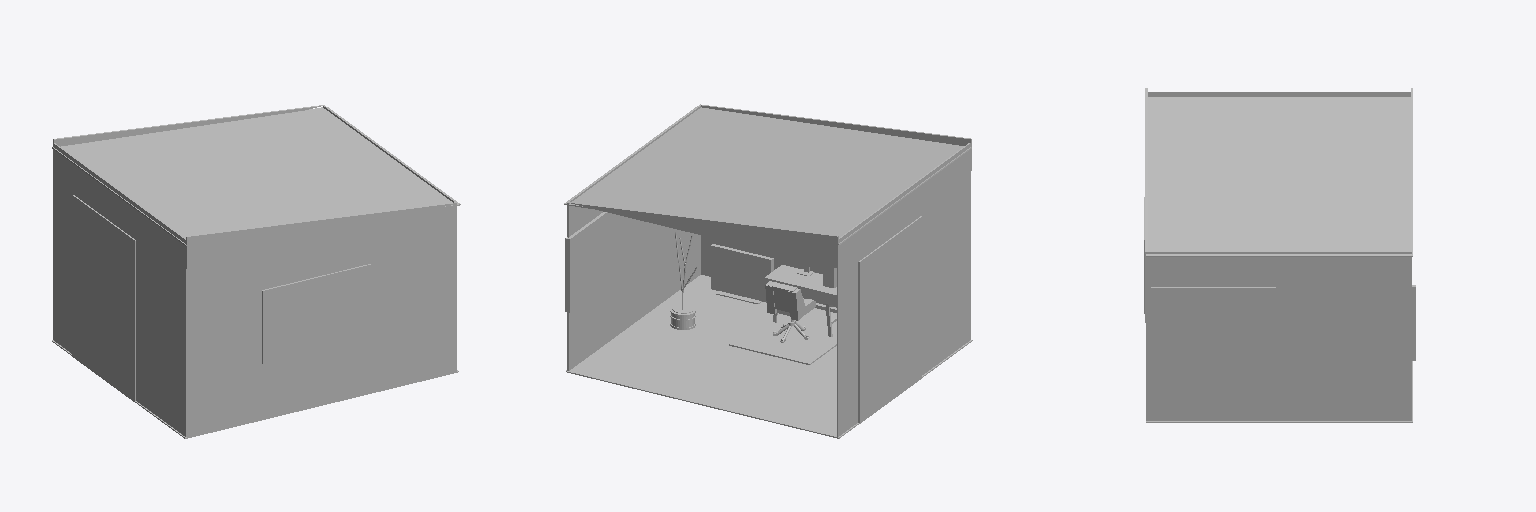
The model's file is room.obj.
3 renders of one model, left to right at view 1: azimuth 30°, elevation 25°; view 2: azimuth 150°, elevation 25°; view 3: azimuth 270°, elevation 25°, orthographic.
Visible parts, largest first — view 1: Cube.004, Cube.005, Cube.070, Cube.069, Cube.035, Cube.006, Cube.007; view 2: Cube.005, Cube.001, Cube.070, Cube.069, Cube.002, Cube.068, Cube.007, Cube.036, Cube.032, Cube.006, Cube.009, Cube.004 (+1 smaller); view 3: Cube.005, Cube.002, Cube.067, Cube.068, Cube.070, Cube.001.
Part boxes in pixels (bbox=[...]): Cube.004: bbox=[187, 203, 456, 437]; Cube.005: bbox=[52, 107, 460, 245]; Cube.070: bbox=[53, 143, 186, 436]; Cube.069: bbox=[72, 195, 135, 401]; Cube.035: bbox=[262, 264, 371, 363]; Cube.006: bbox=[186, 202, 456, 268]; Cube.007: bbox=[53, 105, 324, 170]; Cube.005: bbox=[564, 106, 971, 244]; Cube.001: bbox=[566, 275, 972, 438]; Cube.070: bbox=[837, 143, 970, 436]; Cube.069: bbox=[858, 216, 921, 423]; Cube.002: bbox=[567, 105, 700, 370]; Cube.068: bbox=[565, 212, 632, 312]; Cube.007: bbox=[567, 202, 838, 268]; Cube.036: bbox=[711, 244, 773, 302]; Cube.032: bbox=[729, 320, 836, 364]; Cube.006: bbox=[700, 104, 971, 170]; Cube.009: bbox=[764, 265, 836, 305]; Cube.004: bbox=[701, 106, 836, 307]; Cube.005: bbox=[1146, 97, 1412, 256]; Cube.002: bbox=[1147, 252, 1411, 420]; Cube.067: bbox=[1151, 287, 1275, 361]; Cube.068: bbox=[1290, 285, 1415, 360]; Cube.070: bbox=[1148, 92, 1410, 96]; Cube.001: bbox=[1146, 361, 1412, 422].
Size of the model in its own units: 24.15 by 17.01 by 20.64.